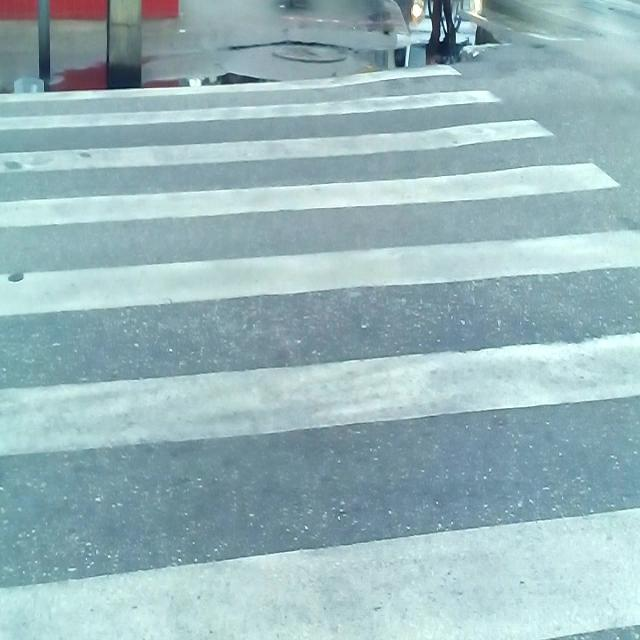crosswalk: (0, 62, 640, 640)
